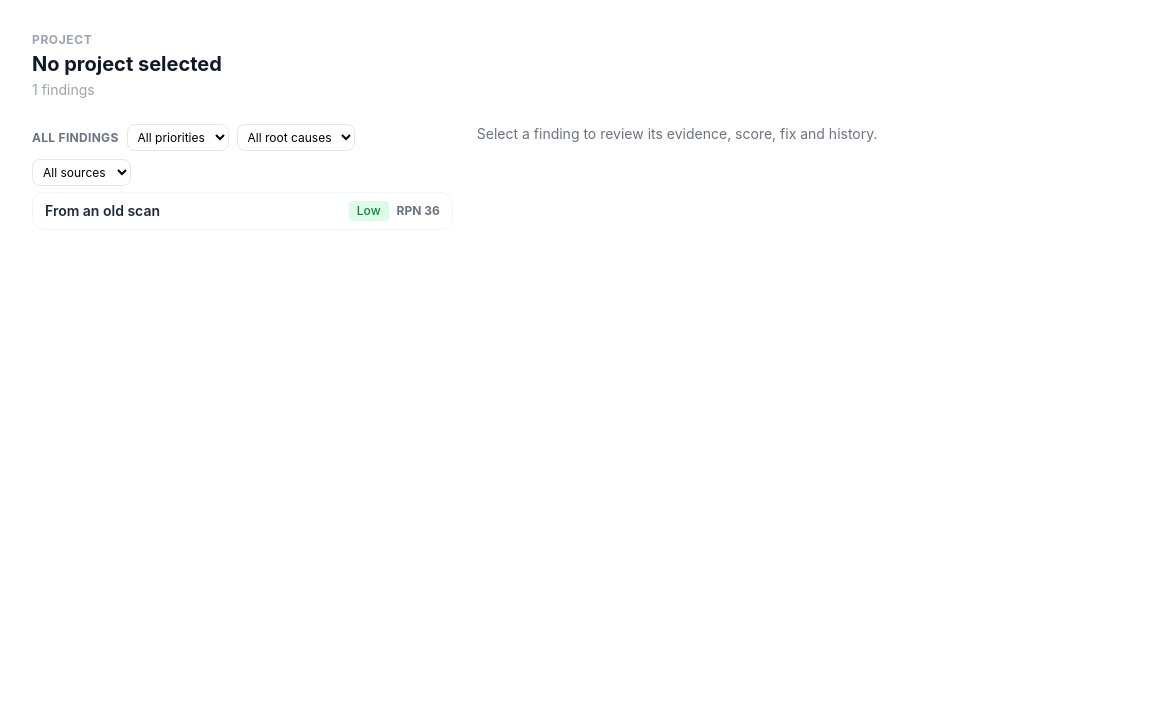
Test: one finding, fully reviewable › falls back to the band alone for an old scan, without an error
Click the button "From an old scan Low RPN 36": point(102, 210) x1=32 y1=192 x2=453 y2=230
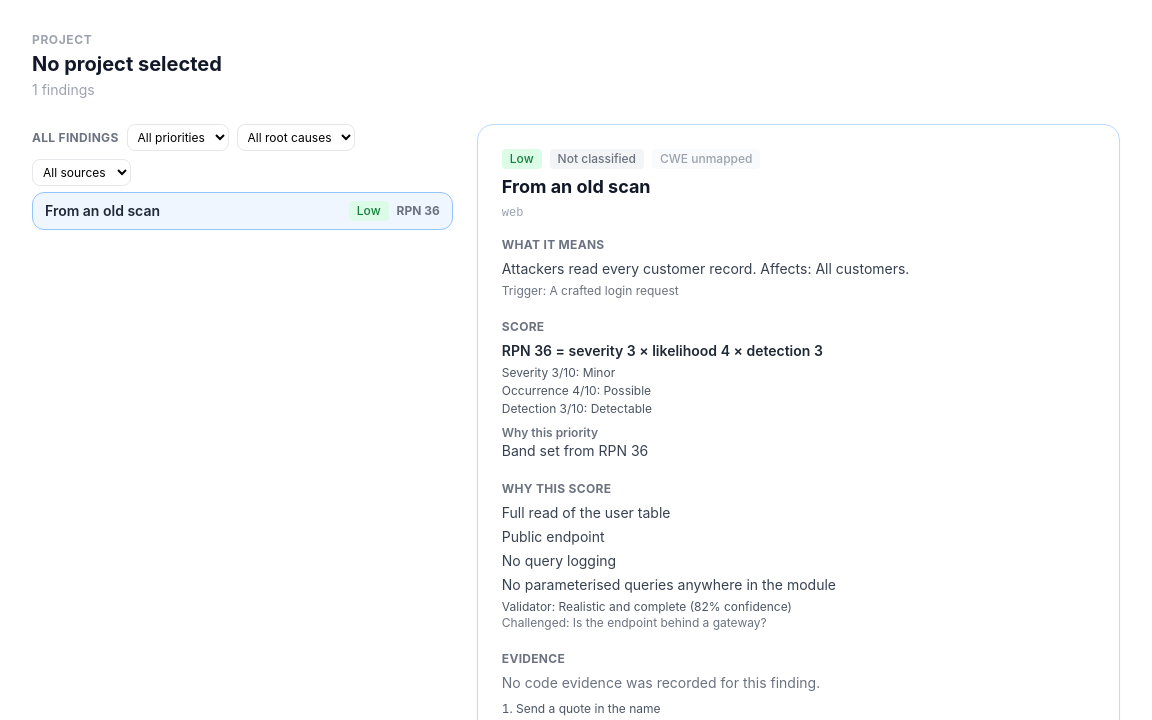
Now the text "Low" next to "Not classified" is shown, box x1=510 y1=151 x2=534 y2=166
Now the text "Not classified" is shown, box x1=550 y1=149 x2=644 y2=169
